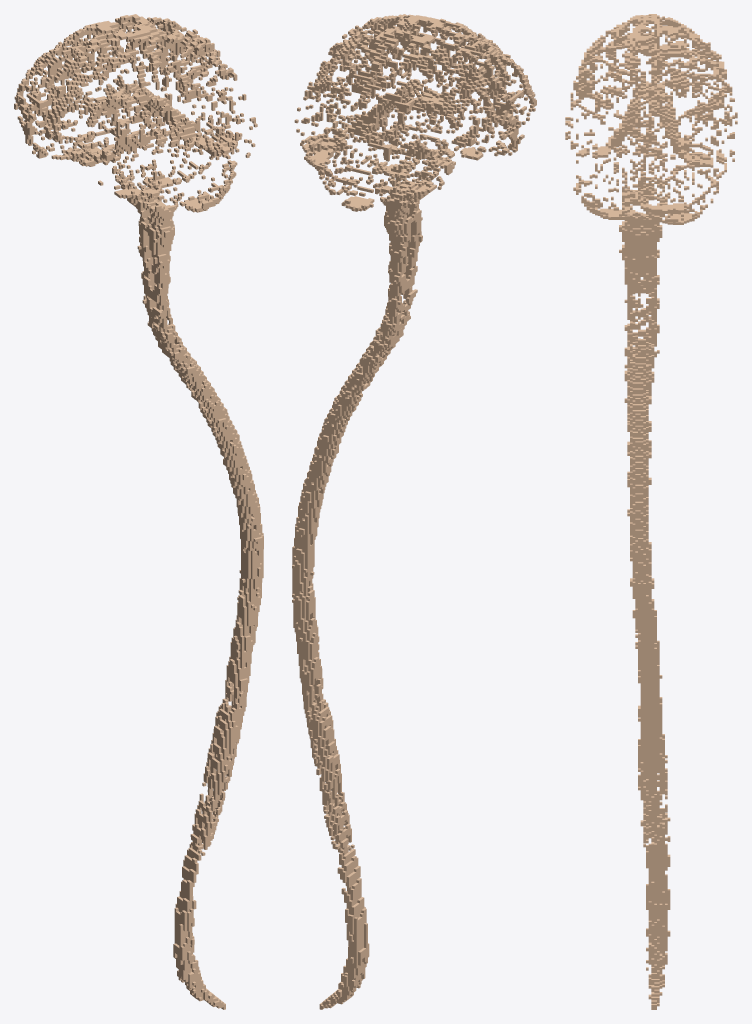
The model's file is cerebro_spinal.fbx.
The picture shows the model from 3 angles, left to right: view 1: azimuth 30°, elevation 25°; view 2: azimuth 150°, elevation 25°; view 3: azimuth 270°, elevation 25°; orthographic projection. The views are drawn at different scales.
Visible parts, largest first — view 1: AustinMan; view 2: AustinMan; view 3: AustinMan.
Part boxes in pixels (bbox=[...]): AustinMan: bbox=[14, 14, 263, 1009]; AustinMan: bbox=[292, 14, 536, 1009]; AustinMan: bbox=[565, 14, 737, 1009].
Size of the model in its own units: 9100 by 38200 by 6400.
